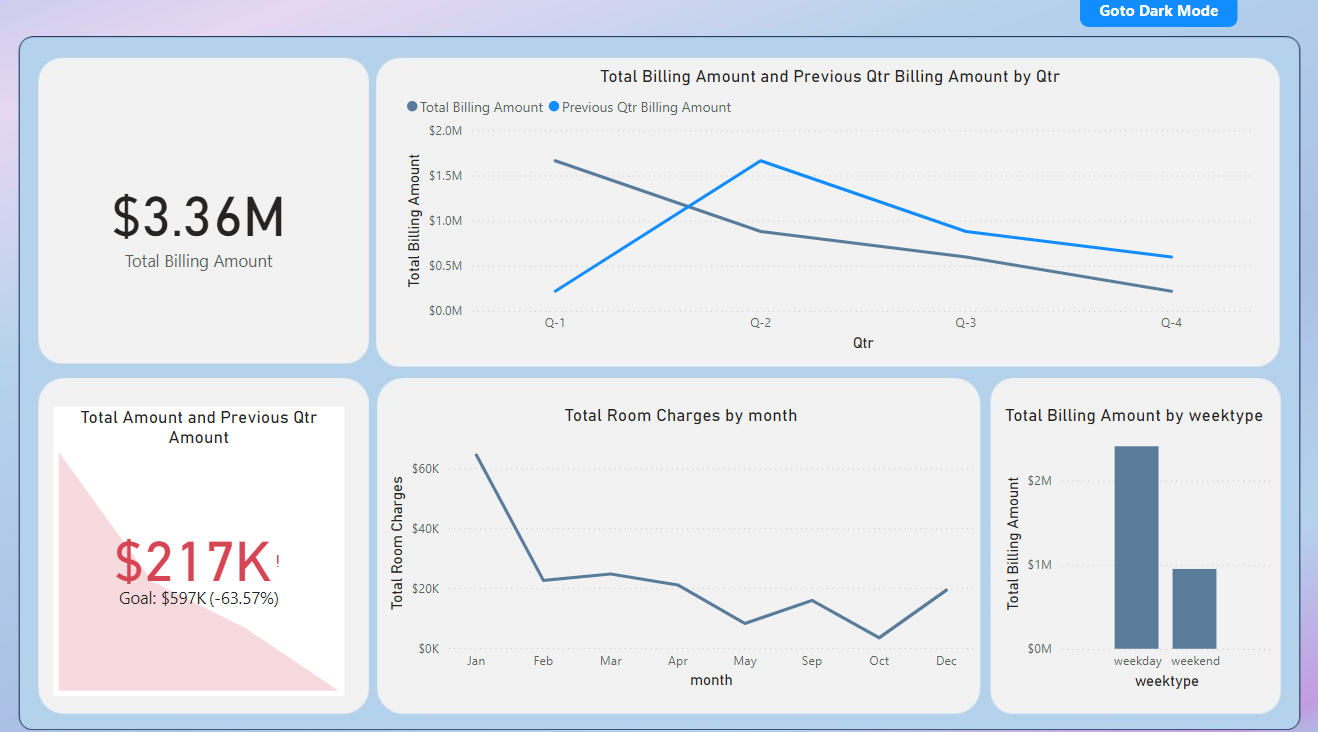

Layout of this report page (visuals, bound fields, positions):
{"tool":"powerbi","page":{"name":"Trend Analys","canvas":[1280,720],"ordinal":2},"visuals":[{"type":"card","fields":{"Values":["measureTable.Total Billing Amount"]},"box":[56.1,79.3,280.5,280.5],"z":0},{"type":"kpi","title":"Total  Amount and Previous Qtr Amount ","fields":{"Indicator":["measureTable.Total Billing Amount"],"Goal":["measureTable.Previous Month Billing Amount"],"TrendLine":["calender Table.Qtr"]},"box":[56.1,398.8,280.5,279.3],"z":1000},{"type":"lineChart","fields":{"Y":["measureTable.Total Billing Amount"],"Y2":["measureTable.Previous Qtr Billing Amount"],"Category":["calender Table.Qtr"]},"box":[391.5,69.5,828,280.5],"z":2000},{"type":"lineChart","fields":{"Category":["calender Table.month"],"Y":["measureTable.Total Room Charges"]},"box":[374.4,396.3,574.4,279.3],"z":3000},{"type":"columnChart","fields":{"Y":["measureTable.Total Billing Amount"],"Category":["calender Table.weektype"]},"box":[969,397,267,280],"z":4000},{"type":"actionButton","box":[1046.3,0,152.4,32.9],"z":5000}]}

Visuals, with their boxes in screenshot pixels (x1, y1, x2, y2), scaled from the page's 1280x720 canvas onto the 1318x732 screenshot:
card - measureTable.Total Billing Amount: <region>58, 81, 347, 366</region>
"Total  Amount and Previous Qtr Amount " kpi: <region>58, 405, 347, 689</region>
lineChart - measureTable.Total Billing Amount x measureTable.Previous Qtr Billing Amount: <region>403, 71, 1256, 356</region>
lineChart - calender Table.month x measureTable.Total Room Charges: <region>386, 403, 977, 687</region>
columnChart - measureTable.Total Billing Amount x calender Table.weektype: <region>998, 404, 1273, 688</region>
actionButton: <region>1077, 0, 1234, 33</region>
